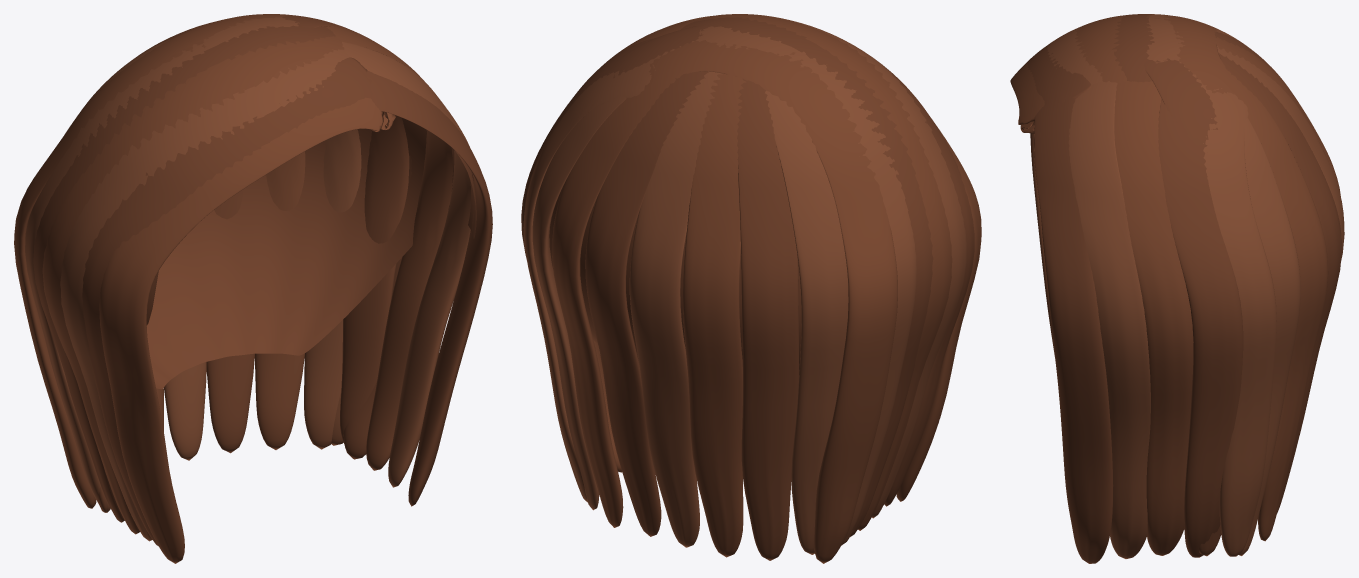
Rendered from Feminine-straight-cap261-hair.glb.
The picture shows the model from 3 angles, left to right: view 1: azimuth 30°, elevation 25°; view 2: azimuth 150°, elevation 25°; view 3: azimuth 270°, elevation 25°; orthographic projection. The views are drawn at different scales.
Parts seen in each view (by area): view 1: 226 hair / Hair / sculpted 0.001, 226 hair / Hair / sculpted 1.002, 226 hair / Hair / sculpted 2.001, 226 hair / Hair / sculpted 1.001; view 2: 226 hair / Hair / sculpted 0.001, 226 hair / Hair / sculpted 2.001, 226 hair / Hair / sculpted 1.002, 226 hair / Hair / sculpted 1.001; view 3: 226 hair / Hair / sculpted 1.002, 226 hair / Hair / sculpted 2.001, 226 hair / Hair / sculpted 0.001.
Boxes of the visible parts, left/top/right/bottom form: 226 hair / Hair / sculpted 0.001: left=14, top=14, right=452, bottom=563; 226 hair / Hair / sculpted 1.002: left=33, top=15, right=492, bottom=545; 226 hair / Hair / sculpted 2.001: left=25, top=15, right=473, bottom=541; 226 hair / Hair / sculpted 1.001: left=146, top=118, right=476, bottom=389; 226 hair / Hair / sculpted 0.001: left=552, top=14, right=981, bottom=563; 226 hair / Hair / sculpted 2.001: left=523, top=14, right=966, bottom=554; 226 hair / Hair / sculpted 1.002: left=521, top=14, right=974, bottom=560; 226 hair / Hair / sculpted 1.001: left=549, top=182, right=801, bottom=374; 226 hair / Hair / sculpted 1.002: left=1027, top=14, right=1341, bottom=563; 226 hair / Hair / sculpted 2.001: left=1047, top=14, right=1344, bottom=558; 226 hair / Hair / sculpted 0.001: left=1010, top=15, right=1340, bottom=555.
Bounding box in the file's own units: 1.01 × 1.15 × 0.7402.
